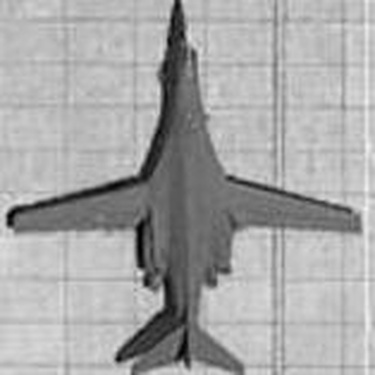airplane: (1, 6, 369, 373)
